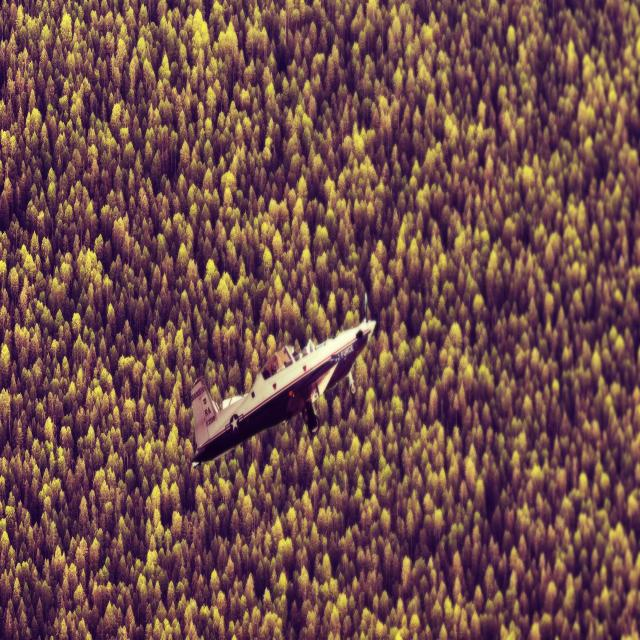airplane: (189, 292, 377, 469)
